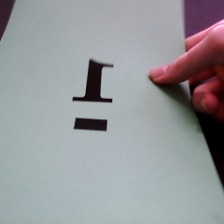green1: (67, 51, 124, 144)
